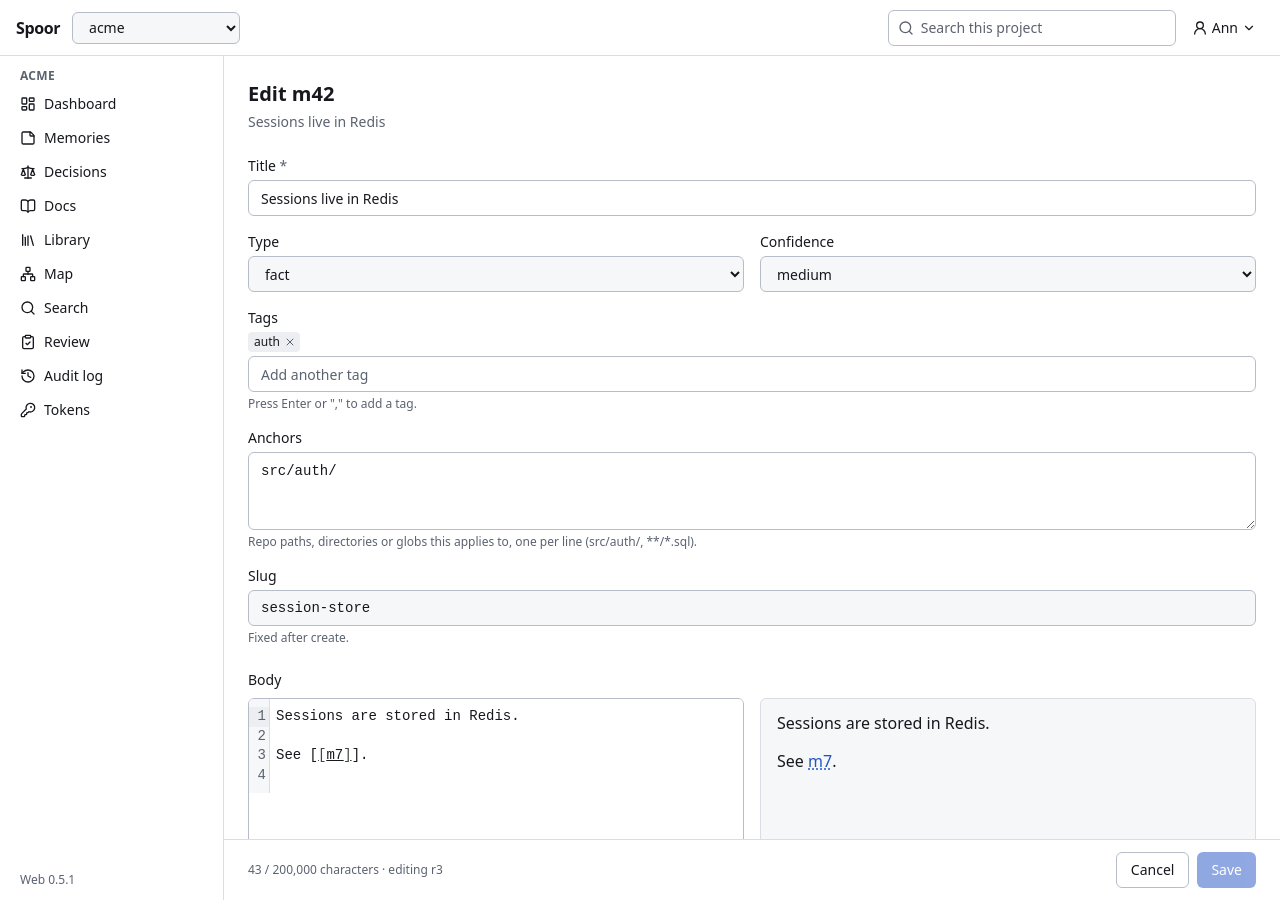
Test: editor: revision conflict › "Keep editing" keeps my text on the old base, so the next save conflicts again
Check: the button "Save" is disabled, box [1197,852,1256,888]
Check: the text "43 / 200,000 characters · editing r3" is shown, box [248,862,443,878]
Type " 7" into the field labelled "Title *". click: (752,198)
box: [248,180,1256,216]
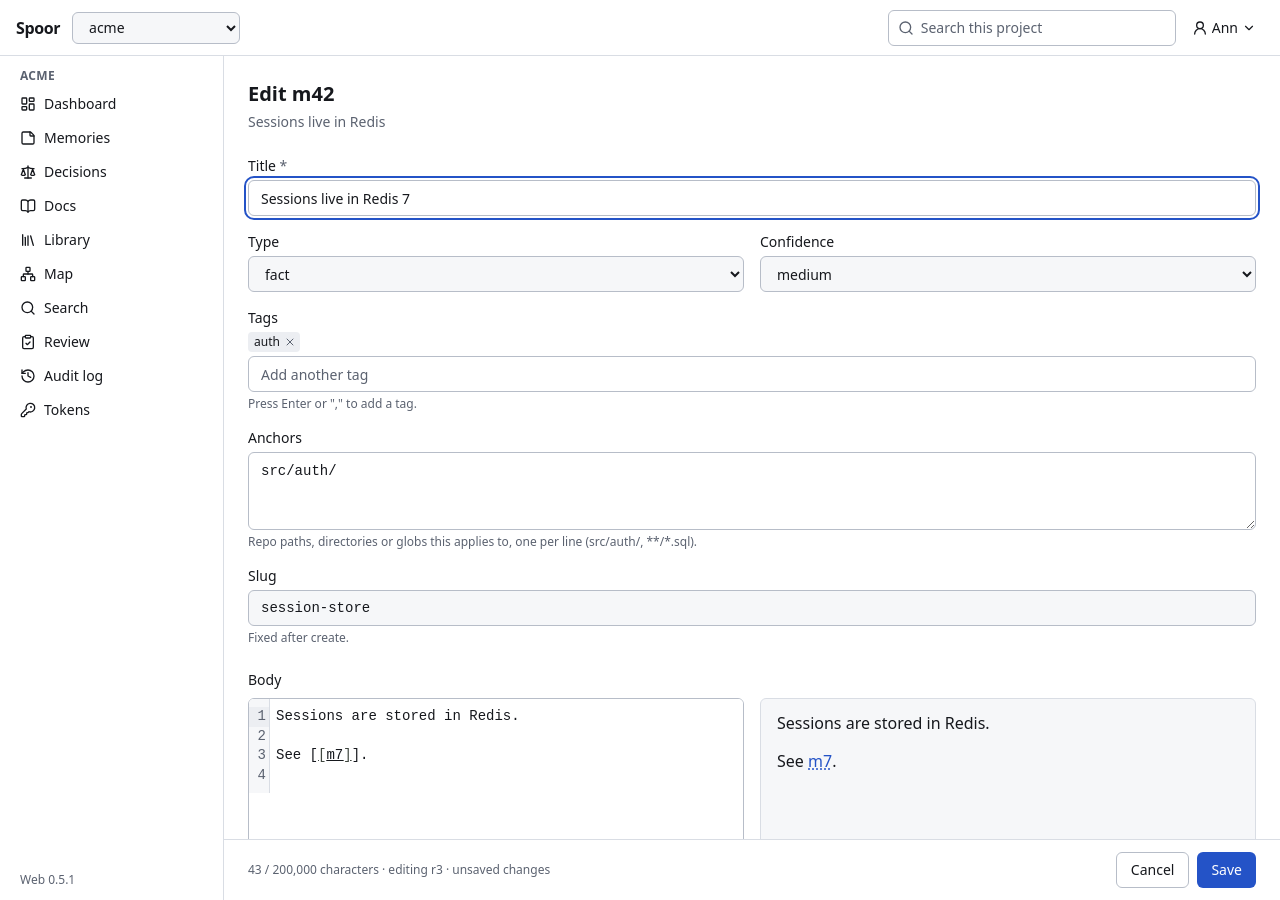
Check: the button "Save" is enabled
Click the button "Save". click: (1227,870)
box: [1197,852,1256,888]
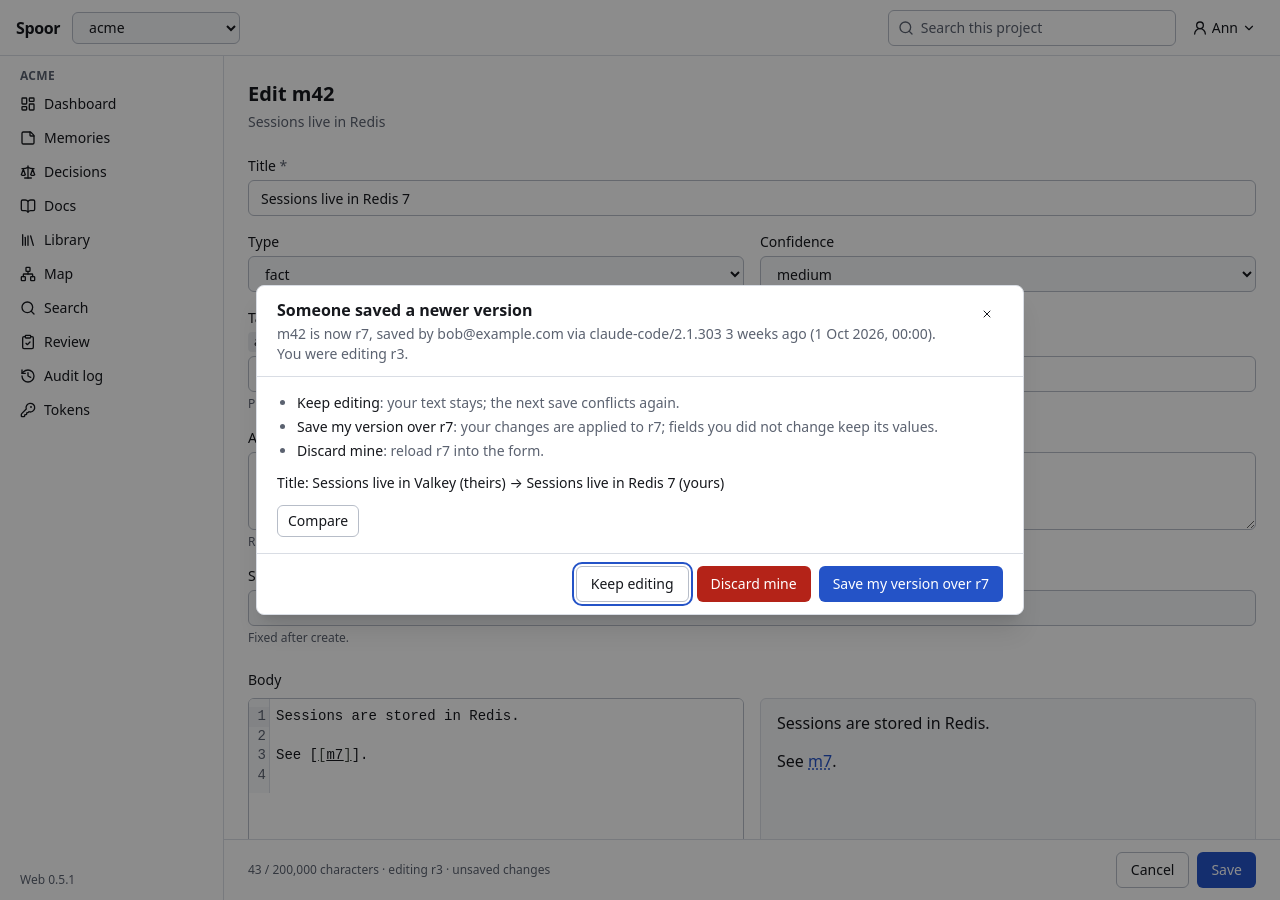
Click the button "Keep editing". click: (632,584)
box: [576,566,689,602]
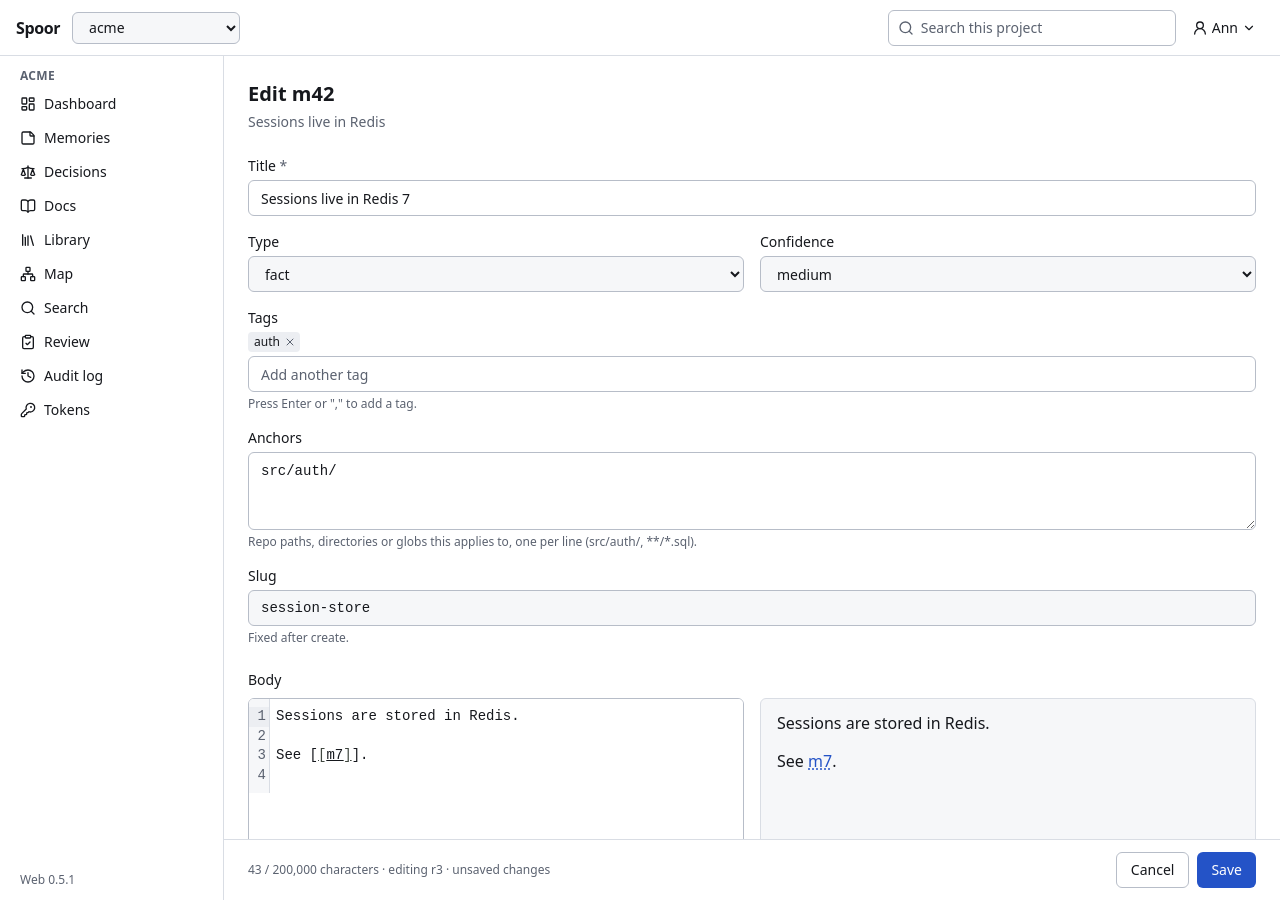
Check: the field labelled "Title *" holds "Sessions live in Redis 7", box [248,180,1256,216]
Check: the dialog is gone
Click the button "Save". click: (1227,870)
box: [1197,852,1256,888]
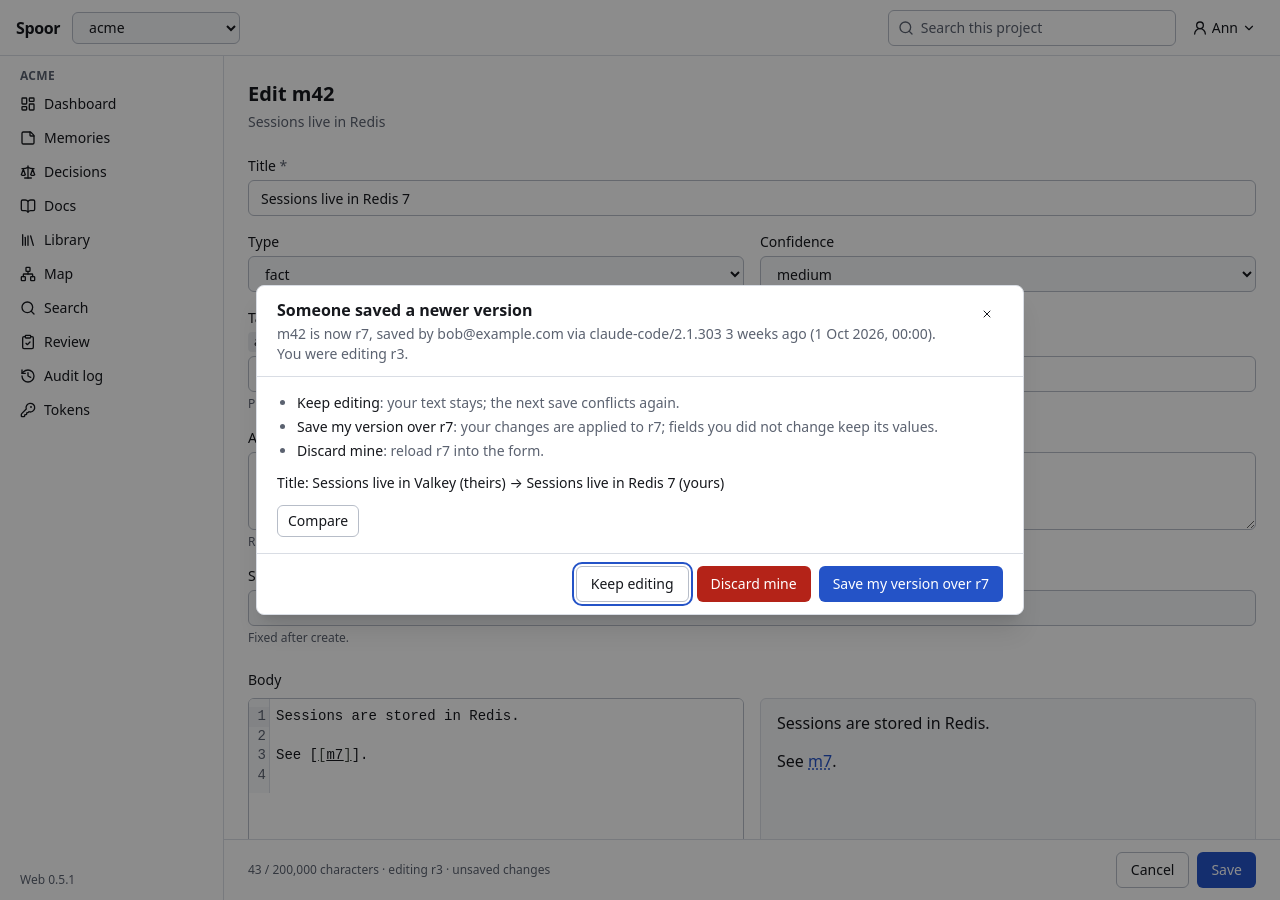
Check: the dialog "Someone saved a newer version" is shown, box [256,285,1024,615]
